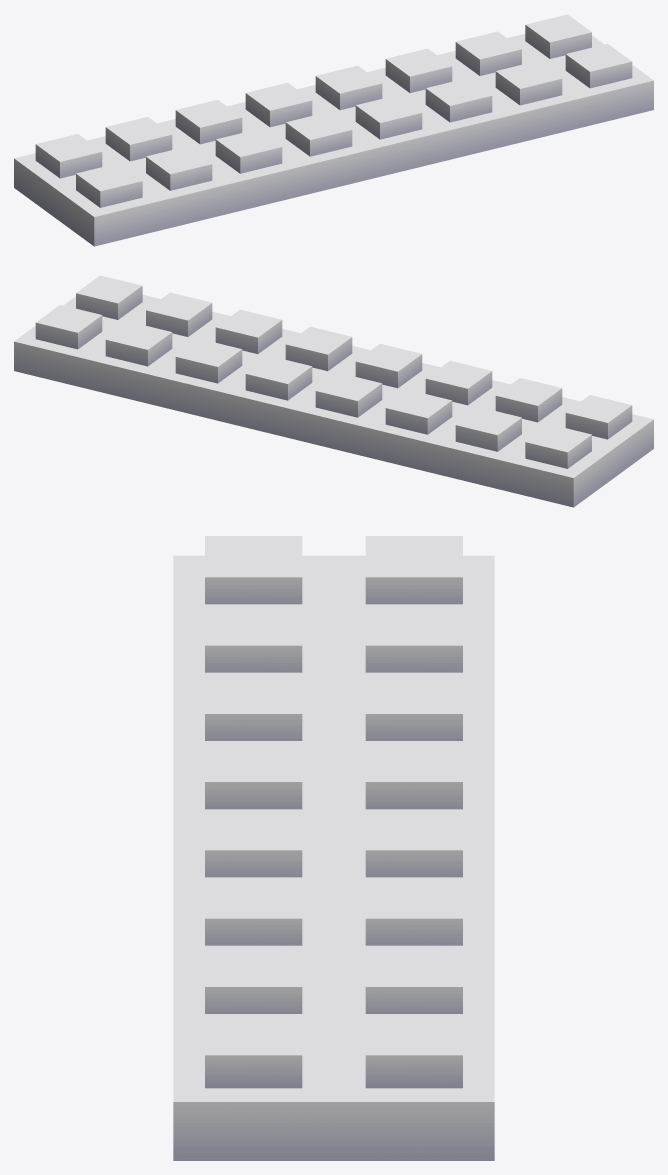
Rendered from square-lq-plate-2x8.glb.
3 views of the same model, one above another, from view 1: azimuth 30°, elevation 25°; view 2: azimuth 150°, elevation 25°; view 3: azimuth 270°, elevation 25° (orthographic). The views are drawn at different scales.
Parts seen in each view (by area): view 1: square-lq-plate-2x8; view 2: square-lq-plate-2x8; view 3: square-lq-plate-2x8.
Part boxes in pixels (x1,y1,x2,y2): square-lq-plate-2x8: [14, 14, 653, 246]; square-lq-plate-2x8: [14, 275, 653, 507]; square-lq-plate-2x8: [173, 536, 494, 1160].
Size of the model in its own units: 3.18 by 0.25 by 0.79.
1 material, 1 textured.
